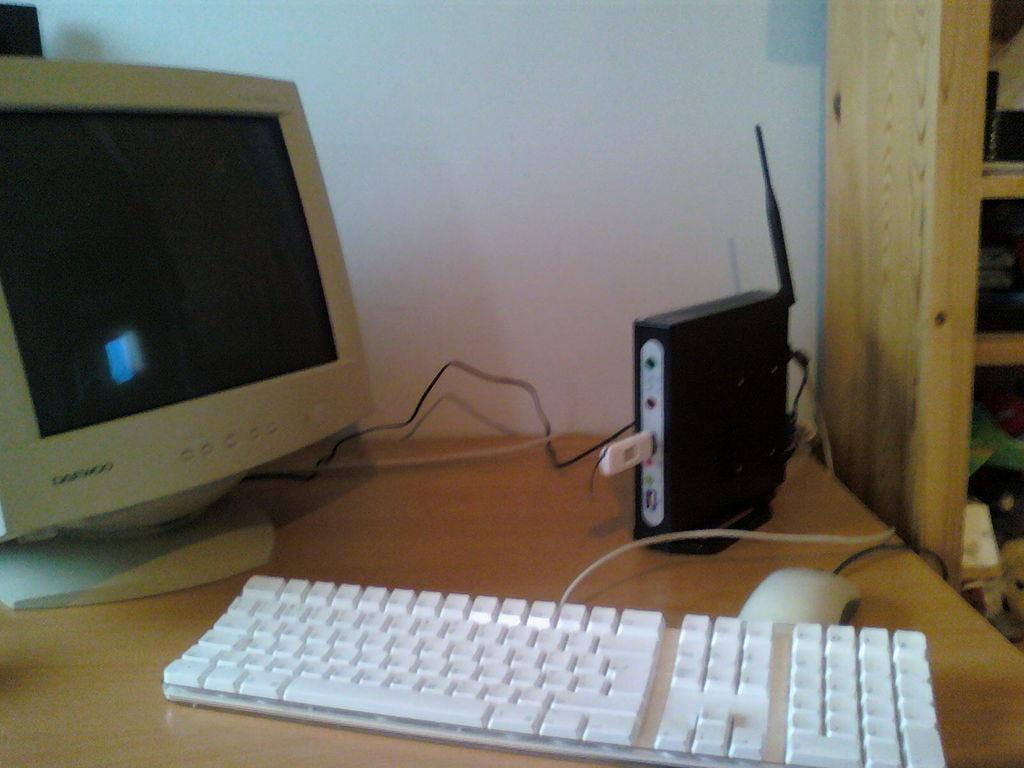Computer-keyboard: (163, 574, 945, 765)
Computer-monitor: (0, 57, 374, 524)
